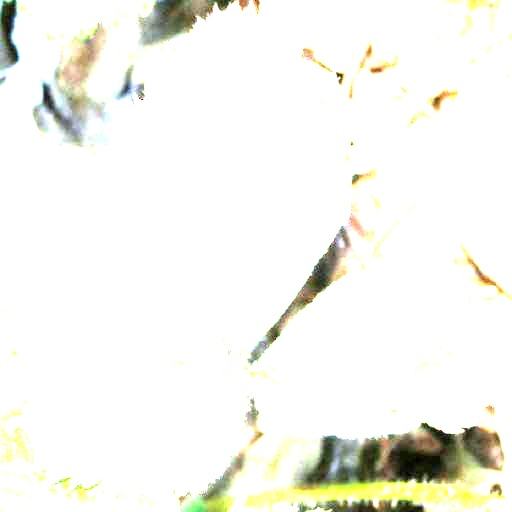Leaf Spot: (124, 0, 357, 364), (5, 255, 245, 511), (249, 263, 509, 435)
